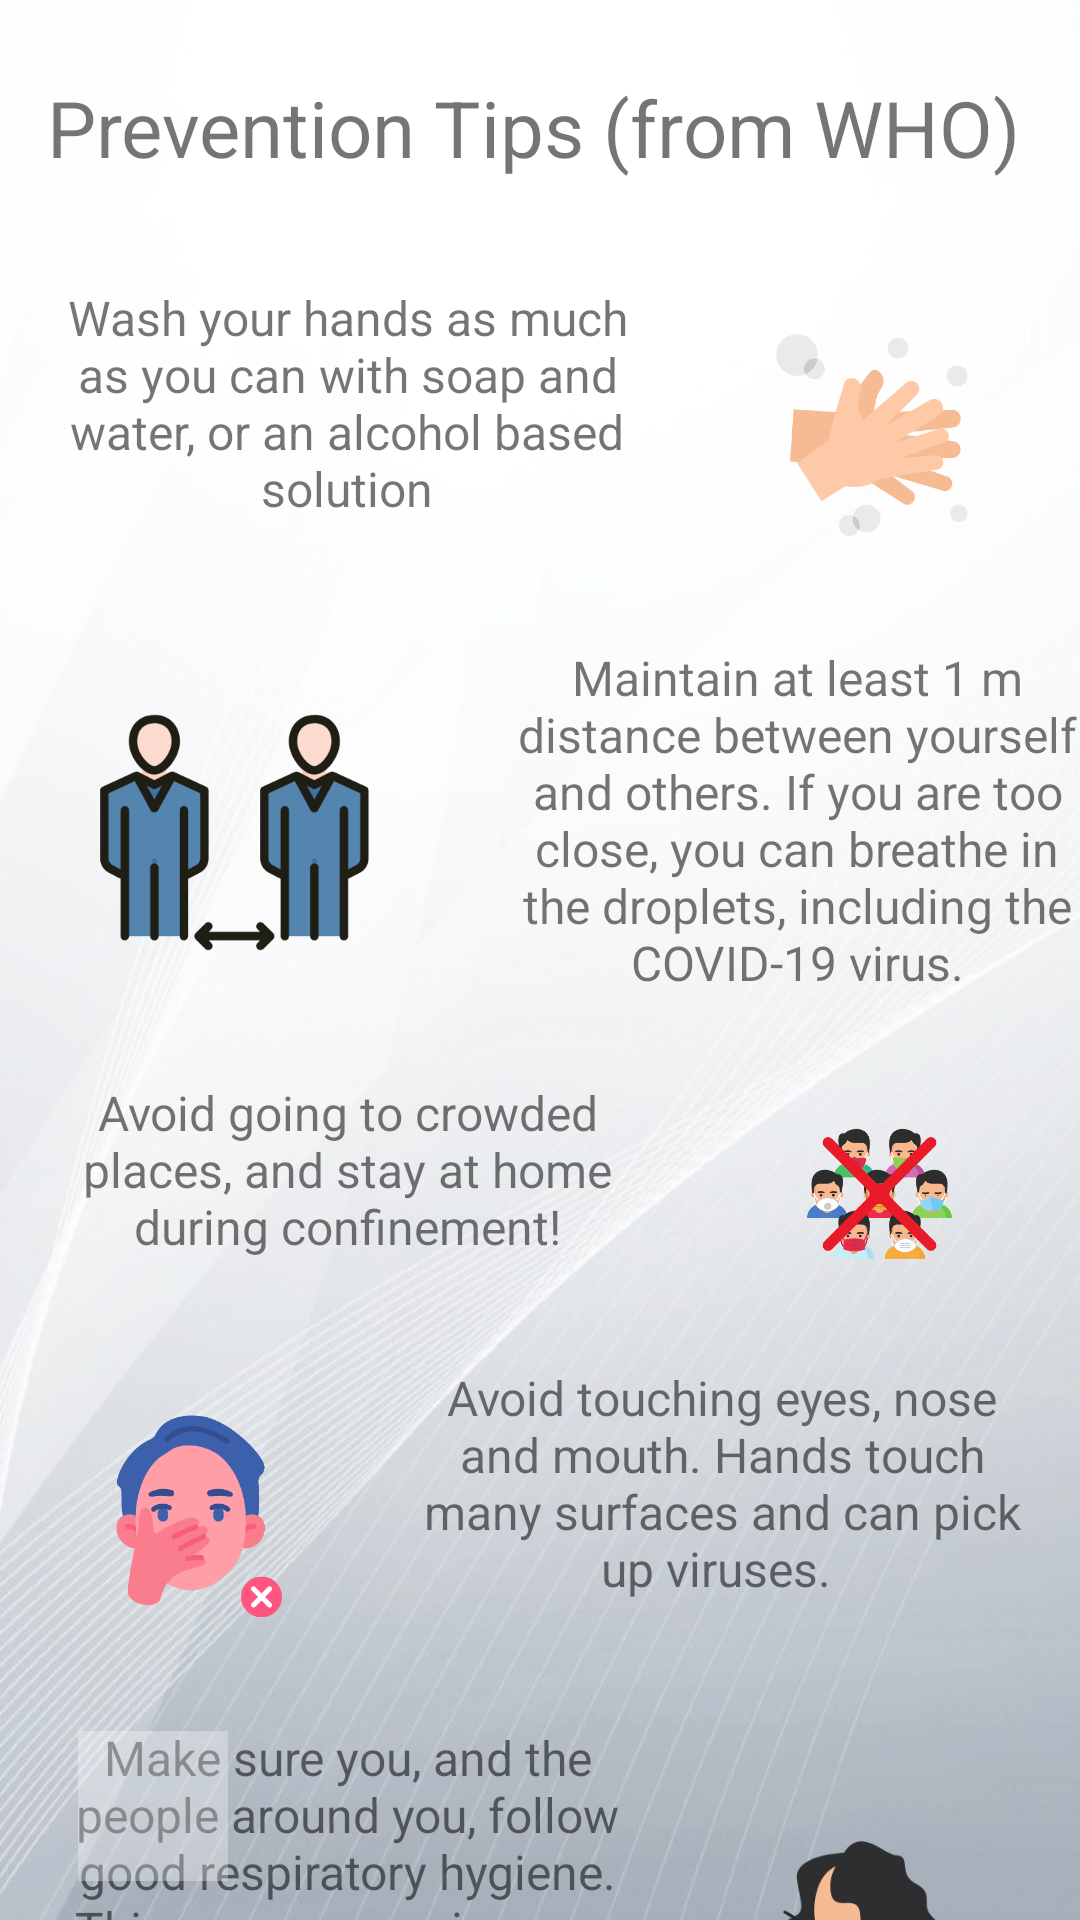

Icon bounding boxes for this 1080*1920 phone screenshot, format (x1, y1, x2, y2):
socialdistancing: (100, 714, 369, 951)
washinghands: (790, 358, 961, 530)
